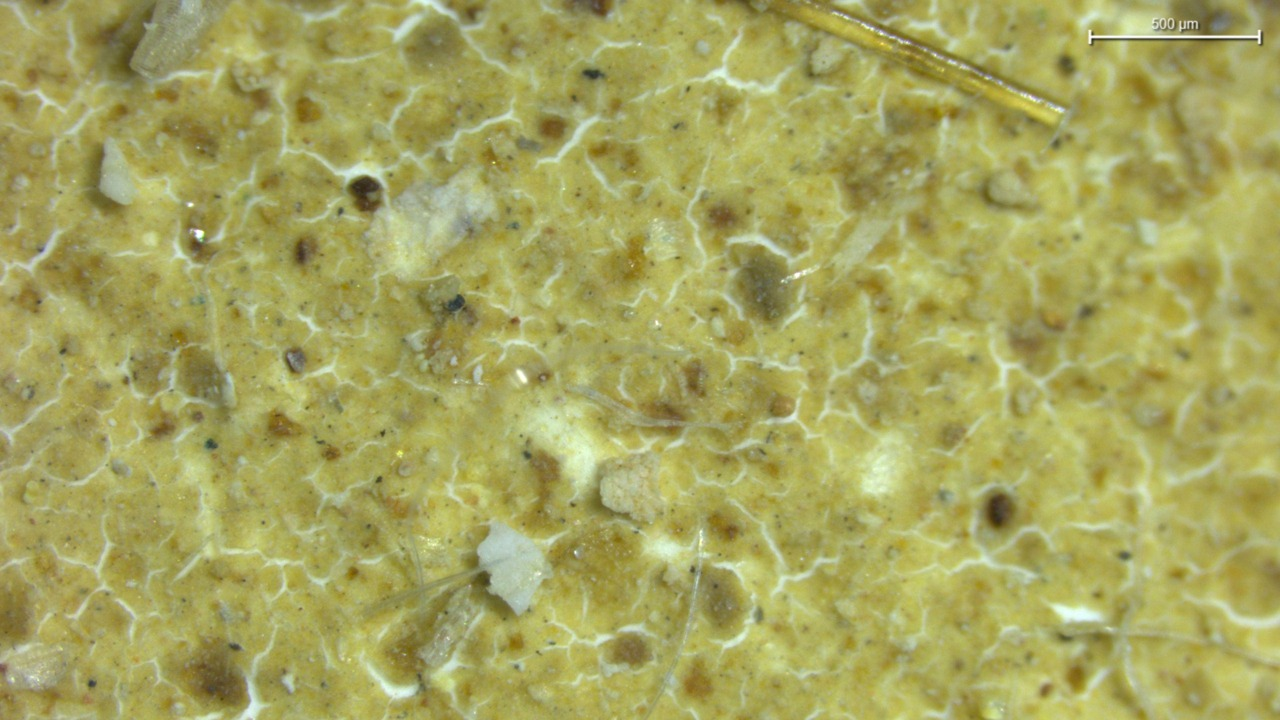microplastic_fragment: (130, 0, 228, 78), (476, 522, 551, 615), (598, 454, 666, 522), (98, 138, 138, 204)
